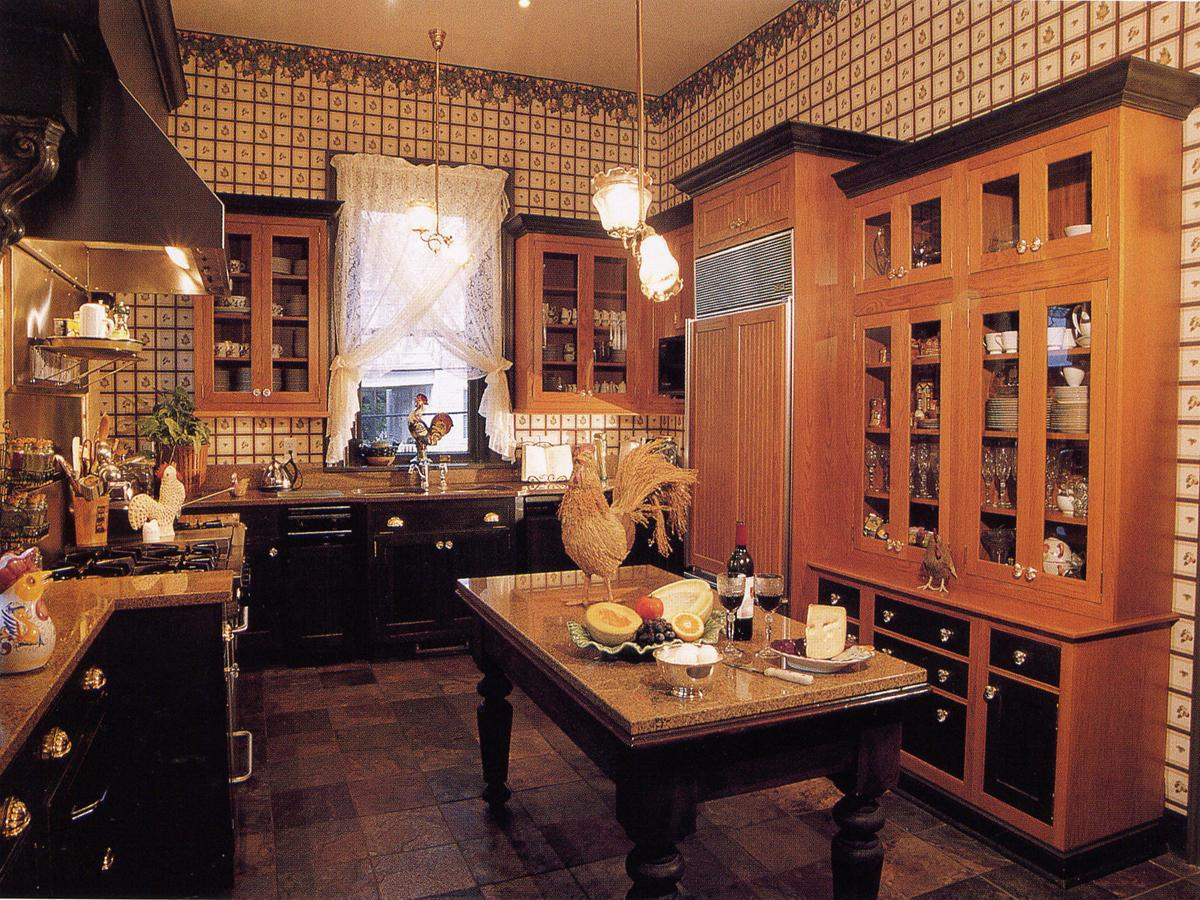Armario: (840, 186, 1110, 844)
